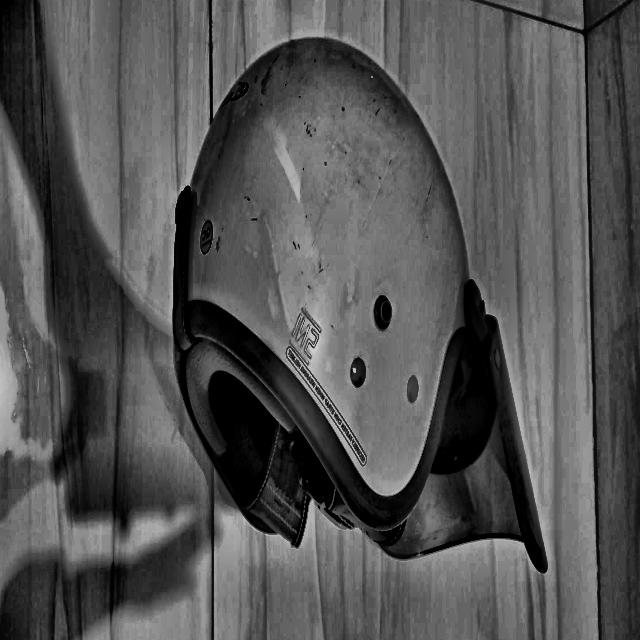Helmet: (291, 145, 634, 640)
